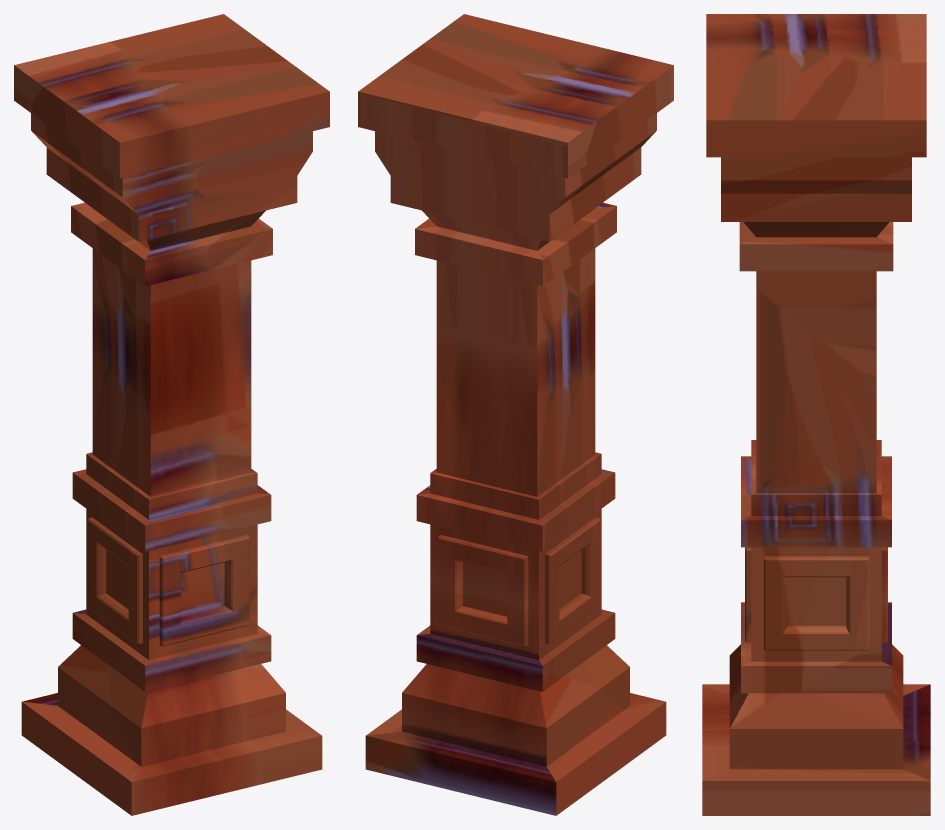
Rendered from lvl_2_candle_holder_columne.fbx.
3 renders of one model, left to right at view 1: azimuth 30°, elevation 25°; view 2: azimuth 150°, elevation 25°; view 3: azimuth 270°, elevation 25°, orthographic. The views are drawn at different scales.
Visible parts, largest first — view 1: columne_v2.008; view 2: columne_v2.008; view 3: columne_v2.008.
Part boxes in pixels (left/top/right/bottom): columne_v2.008: left=14, top=14, right=329, bottom=815; columne_v2.008: left=358, top=14, right=673, bottom=815; columne_v2.008: left=702, top=14, right=930, bottom=815.
Bounding box in the file's own units: 233 × 715 × 211.
